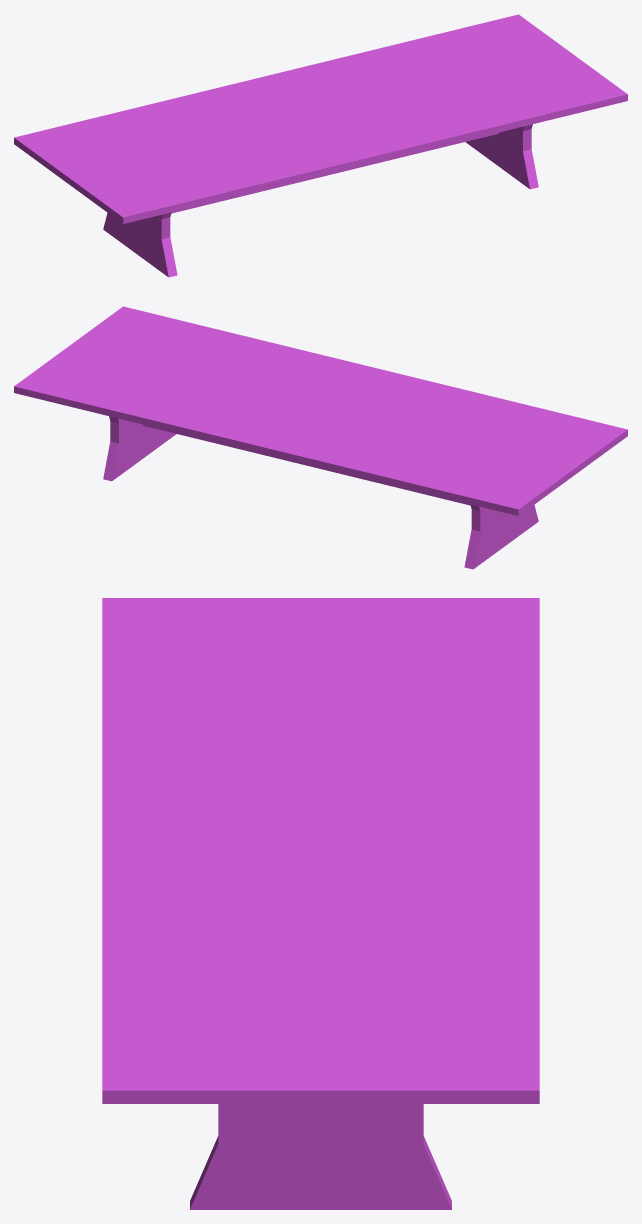
The model's file is Table_Large.fbx.
3 renders of one model, top to bottom at view 1: azimuth 30°, elevation 25°; view 2: azimuth 150°, elevation 25°; view 3: azimuth 270°, elevation 25°, orthographic. The views are drawn at different scales.
Parts seen in each view (by area): view 1: LargeTable_low; view 2: LargeTable_low; view 3: LargeTable_low.
Boxes of the visible parts, x1,y1,x2,y2 form: LargeTable_low: (14, 14, 627, 277); LargeTable_low: (14, 306, 627, 569); LargeTable_low: (102, 598, 539, 1209).
Size of the model in its own units: 40000 by 7000 by 15000.
